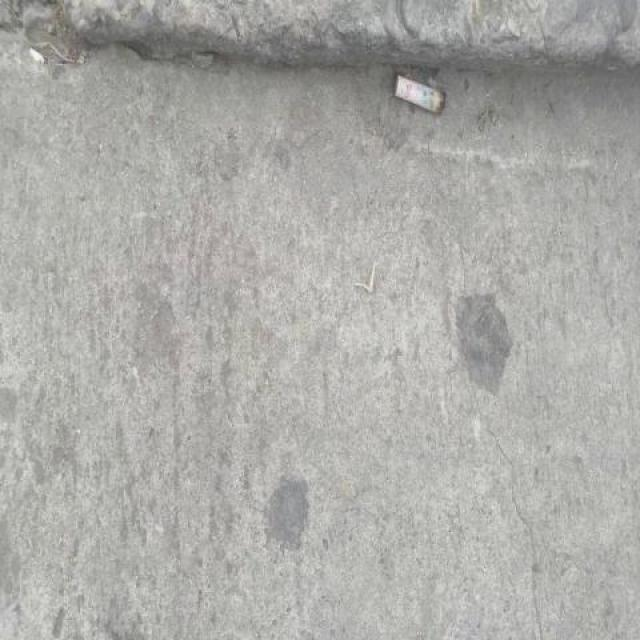non-organic waste: (391, 71, 452, 120)
